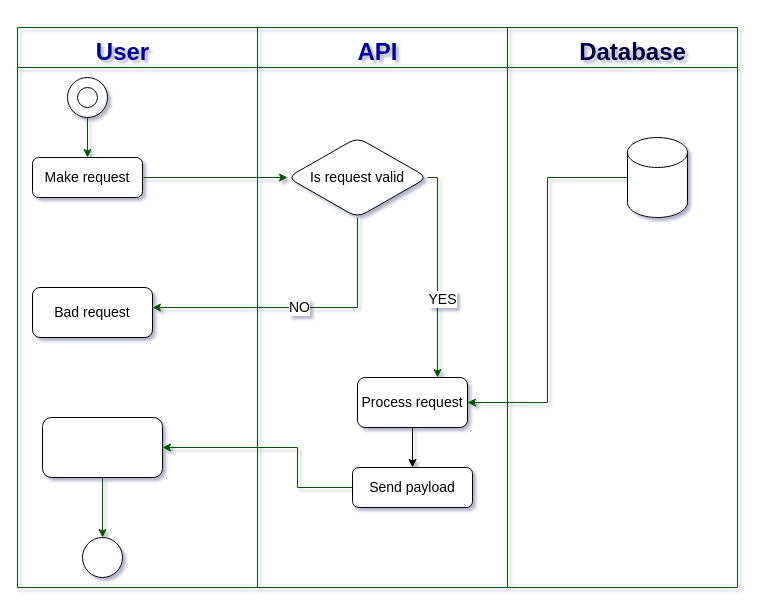
This 762x612 diagram has some shape labels left out. The centre of each missing label's shape, as x and y in pixels:
DB: (657,177)
Receive payload: (102,447)
